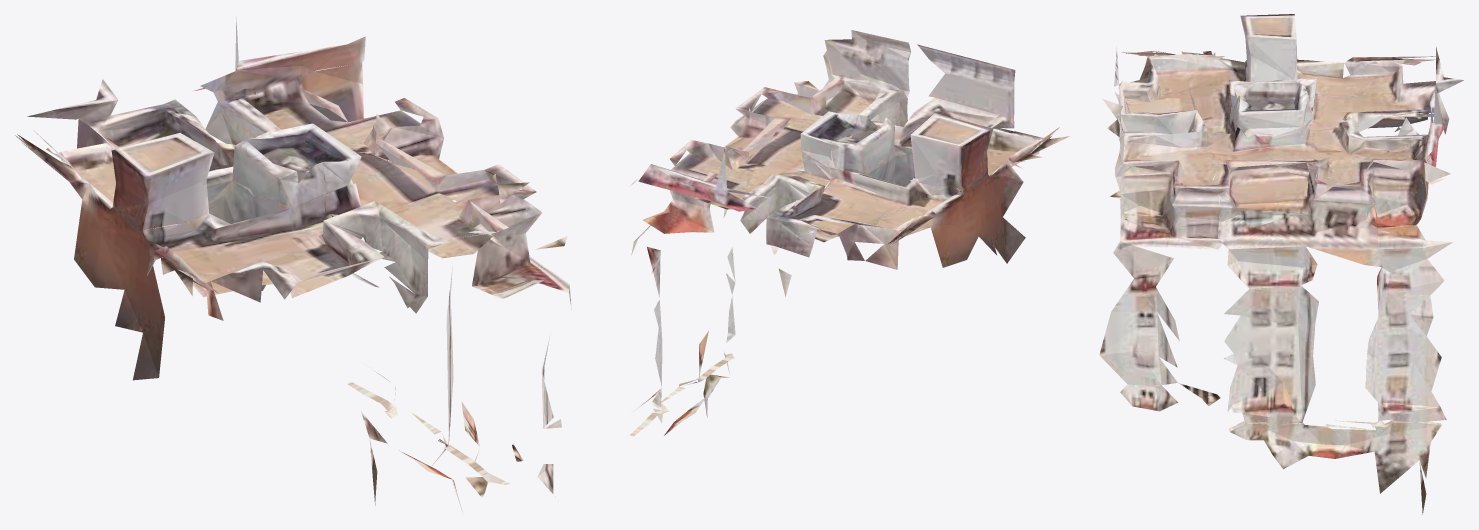
Rendered from haus.glb.
3 views of the same model, side by side, from view 1: azimuth 30°, elevation 25°; view 2: azimuth 150°, elevation 25°; view 3: azimuth 270°, elevation 25° (orthographic). The views are drawn at different scales.
Parts seen in each view (by area): view 1: haus0, haus1; view 2: haus0, haus1; view 3: haus0, haus1.
Boxes of the visible parts, bbox=[...] form: haus0: bbox=[15, 16, 571, 493]; haus1: bbox=[347, 382, 509, 511]; haus0: bbox=[630, 30, 1070, 411]; haus1: bbox=[629, 352, 734, 436]; haus0: bbox=[1099, 14, 1463, 424]; haus1: bbox=[1228, 420, 1441, 514].
Bounding box in the file's own units: 23.41 × 29.51 × 25.3.
Materials: 3 (3 with a texture image).
